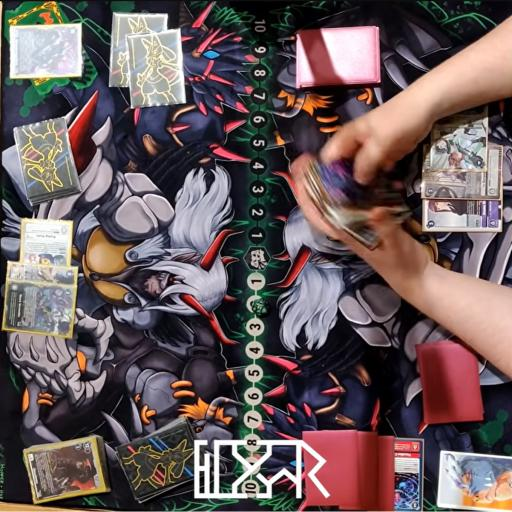card: (23, 436, 104, 505), (427, 93, 491, 172), (420, 146, 501, 202), (6, 282, 76, 342), (9, 24, 86, 78), (421, 195, 502, 235), (389, 435, 427, 512), (17, 218, 76, 267), (2, 262, 80, 284)
